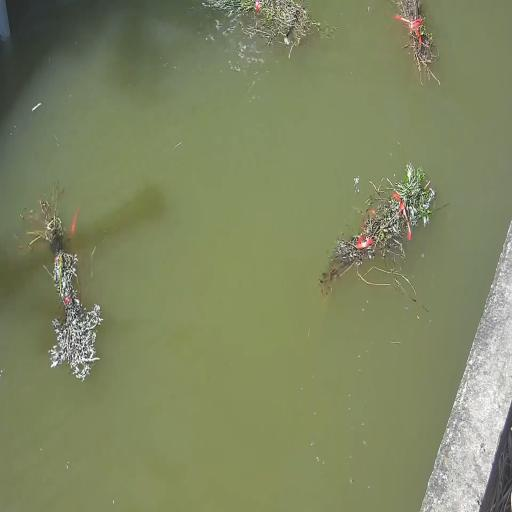twig: (12, 181, 109, 380), (322, 160, 442, 302), (200, 2, 320, 73), (386, 1, 442, 87), (21, 182, 69, 252)
